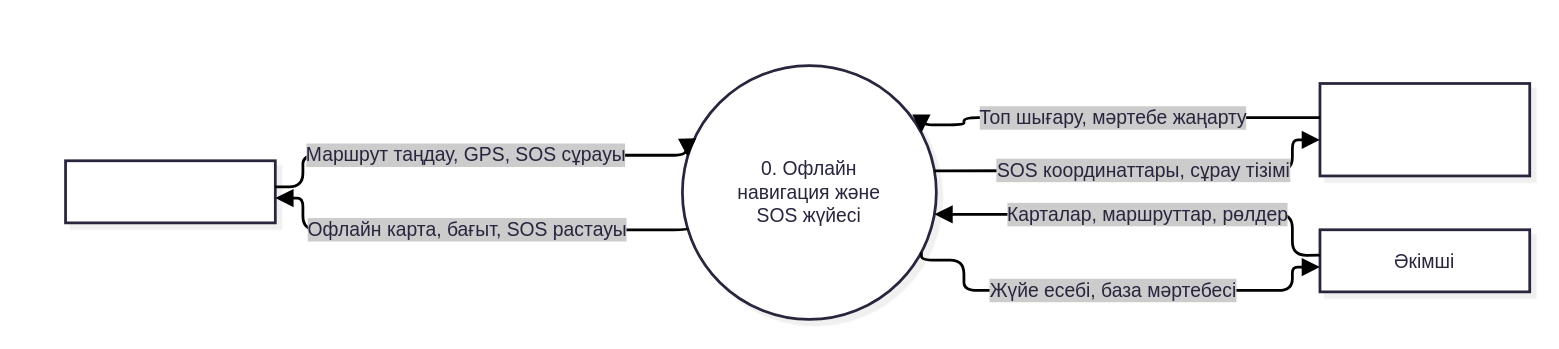
Image size: 1559x349. Some labels were removed from this diagram. Each missing label, with the centre of its shape:
Турист: the point at 172,194
Құтқарушы / Диспетчер: the point at 1427,131
